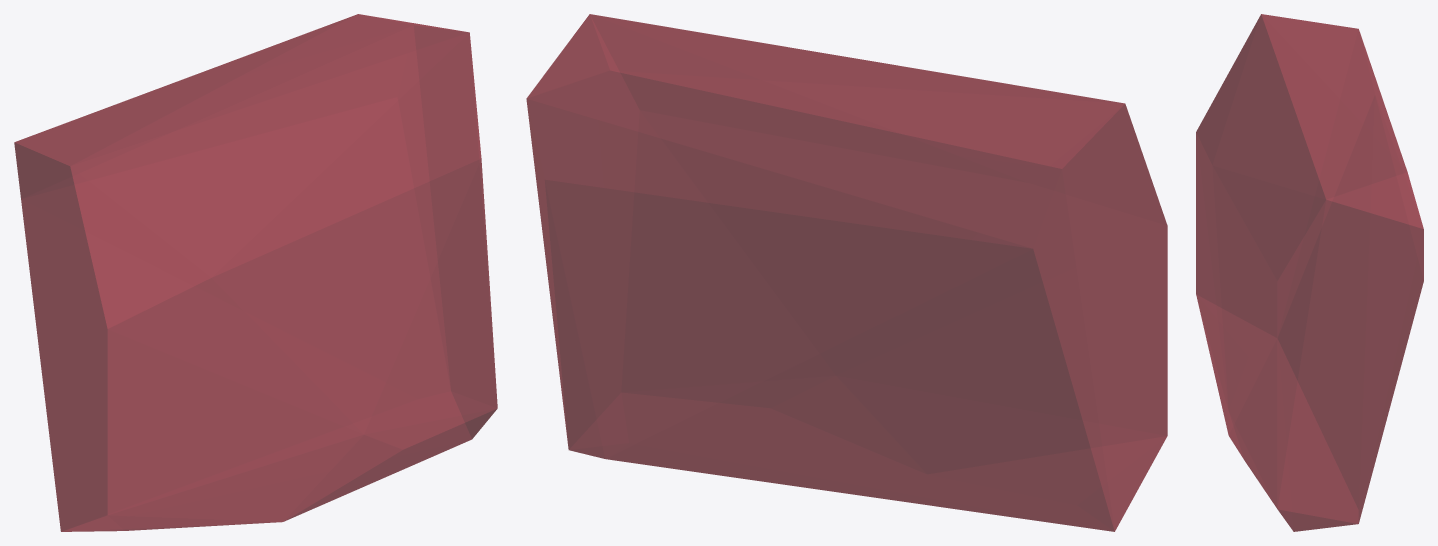
3 views of the same model, side by side, from view 1: azimuth 30°, elevation 25°; view 2: azimuth 150°, elevation 25°; view 3: azimuth 270°, elevation 25° (orthographic). The views are drawn at different scales.
Parts seen in each view (by area): view 1: Shape_IndexedFaceSet.048_Shape_IndexedFaceSet.10758; view 2: Shape_IndexedFaceSet.048_Shape_IndexedFaceSet.10758; view 3: Shape_IndexedFaceSet.048_Shape_IndexedFaceSet.10758.
Boxes of the visible parts, bbox=[...] form: Shape_IndexedFaceSet.048_Shape_IndexedFaceSet.10758: bbox=[14, 14, 497, 531]; Shape_IndexedFaceSet.048_Shape_IndexedFaceSet.10758: bbox=[526, 14, 1167, 531]; Shape_IndexedFaceSet.048_Shape_IndexedFaceSet.10758: bbox=[1196, 14, 1423, 531].
Bounding box in the file's own units: 0.0892 × 0.076 × 0.0462.
